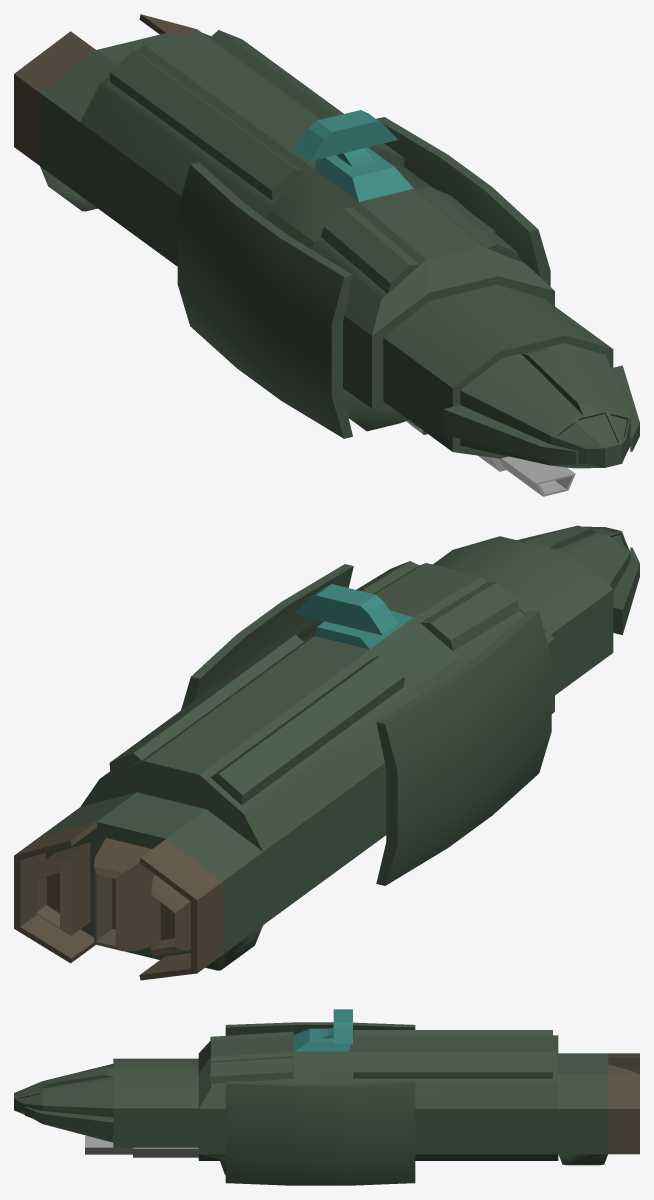
The model's file is CapitalShipUV.fbx.
3 views of the same model, one above another, from view 1: azimuth 30°, elevation 25°; view 2: azimuth 150°, elevation 25°; view 3: azimuth 270°, elevation 25° (orthographic). The views are drawn at different scales.
Parts seen in each view (by area): view 1: polySurface7, TopPart, Thruster, WeaponSystem; view 2: polySurface7, Thruster, TopPart; view 3: polySurface7, Thruster, TopPart, WeaponSystem.
Boxes of the visible parts, x1,y1,x2,y2 form: polySurface7: (39,30,639,468); TopPart: (294,110,413,201); Thruster: (14,14,200,165); WeaponSystem: (406,420,575,496); polySurface7: (40,525,639,970); Thruster: (14,822,222,980); TopPart: (294,584,413,649); polySurface7: (14,1022,608,1185); Thruster: (608,1053,639,1154); TopPart: (293,1009,352,1051); WeaponSystem: (85,1135,198,1157).
Size of the model in its own units: 297 by 297 by 1092.
